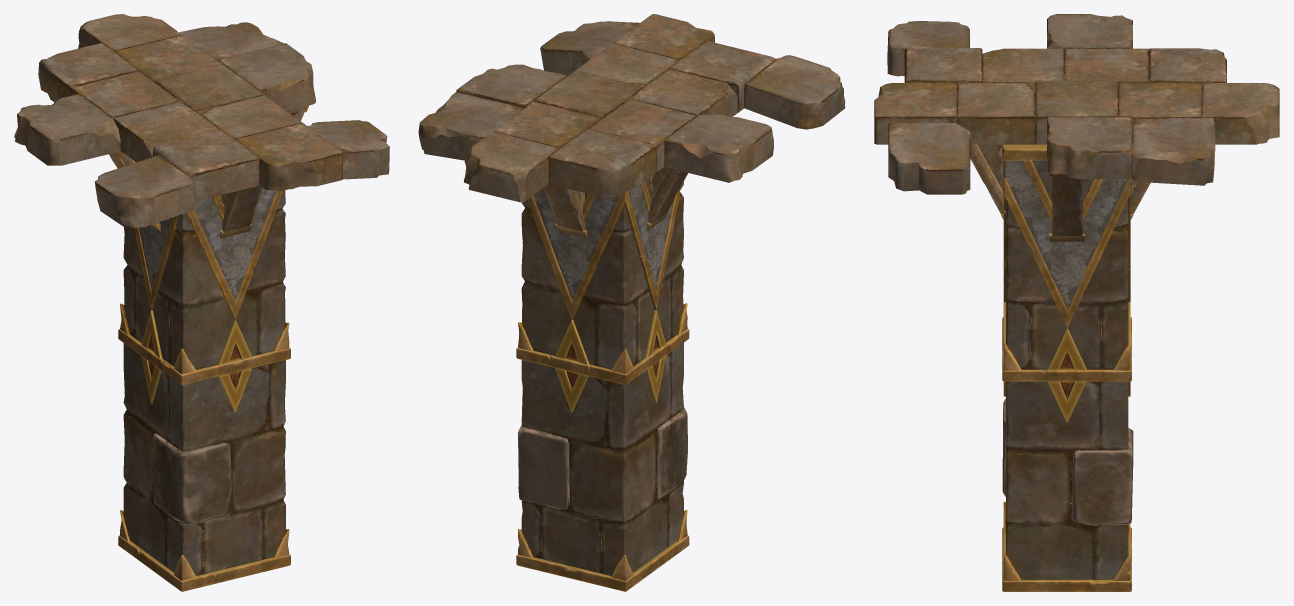
3 renders of one model, left to right at view 1: azimuth 30°, elevation 25°; view 2: azimuth 150°, elevation 25°; view 3: azimuth 270°, elevation 25°, orthographic.
Visible parts, largest first — view 1: SM_Vault_10m_Dmg_Platform_01_V1_LOD0; view 2: SM_Vault_10m_Dmg_Platform_01_V1_LOD0; view 3: SM_Vault_10m_Dmg_Platform_01_V1_LOD0.
Boxes of the visible parts, box(x1,y1,x2,y2) form: SM_Vault_10m_Dmg_Platform_01_V1_LOD0: box(14, 14, 389, 591); SM_Vault_10m_Dmg_Platform_01_V1_LOD0: box(418, 14, 845, 591); SM_Vault_10m_Dmg_Platform_01_V1_LOD0: box(874, 14, 1279, 591).
Size of the model in its own units: 5.39 by 8.54 by 6.64.
Materials: 7 (7 with a texture image).
